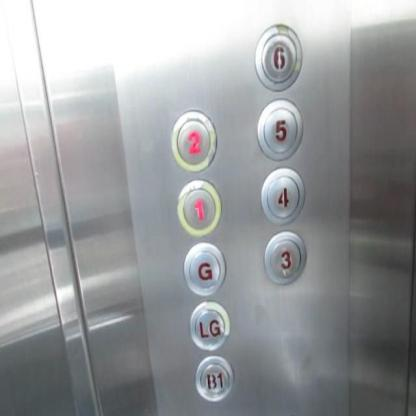1: (175, 177, 221, 238)
2: (168, 108, 217, 172)
3: (262, 228, 306, 284)
4: (260, 164, 304, 224)
5: (254, 96, 304, 161)
6: (254, 18, 303, 93)
B1: (194, 353, 234, 402)
G: (181, 239, 225, 297)
LG: (187, 297, 230, 351)
